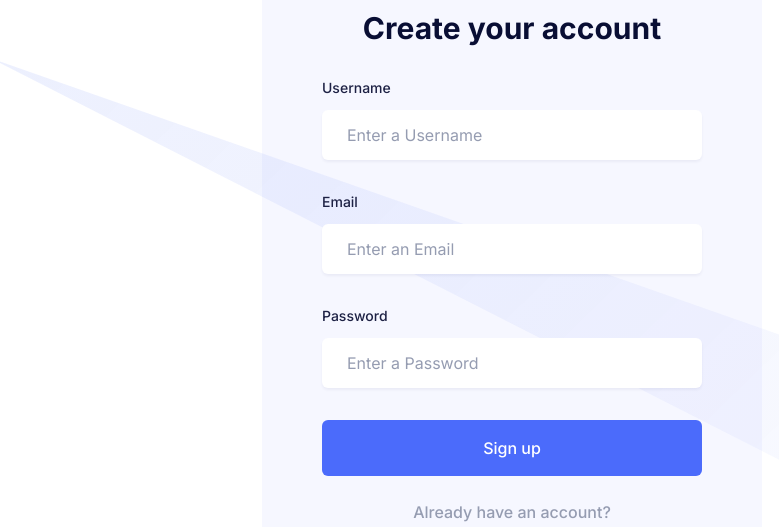
Test case: Sign in functionality › Should show error message if one occurs in the fetch request
In the field labelled "Username": x=512, y=135 x1=322 y1=110 x2=702 y2=160, type "testuser"
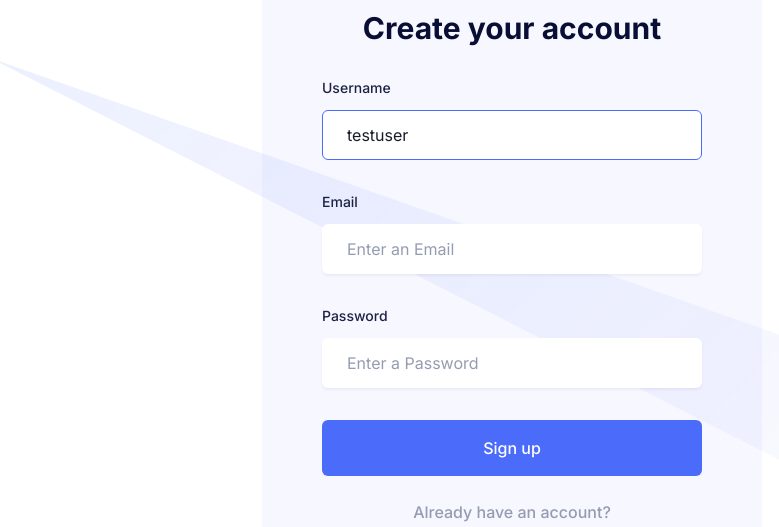
In the field labelled "Email": x=512, y=249 x1=322 y1=224 x2=702 y2=274, type "test@gmail.com"
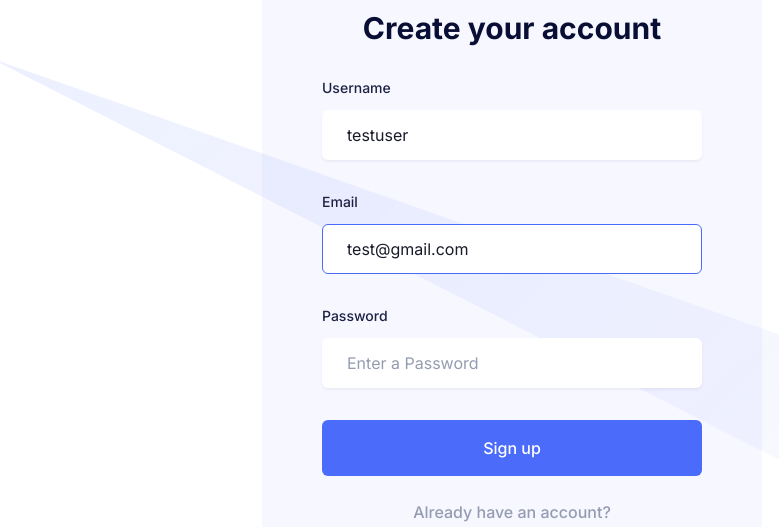
In the password field labelled "Password": x=512, y=363 x1=322 y1=338 x2=702 y2=388, type "password"
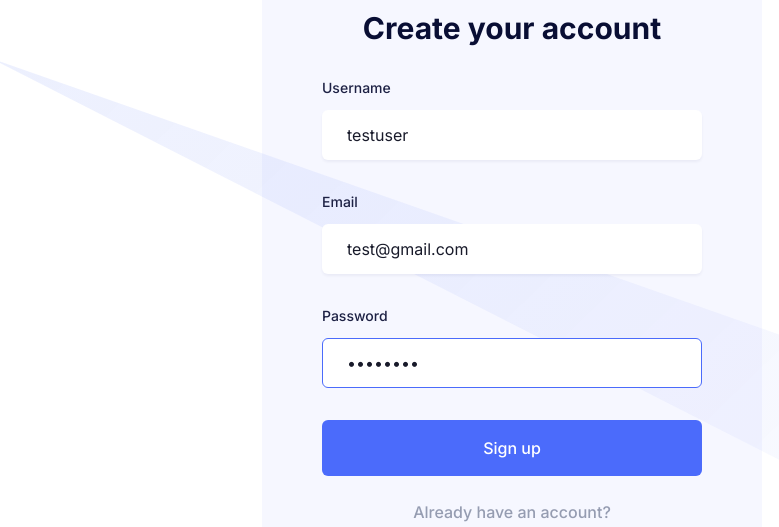
Click the button: x=512, y=448 x1=322 y1=420 x2=702 y2=476
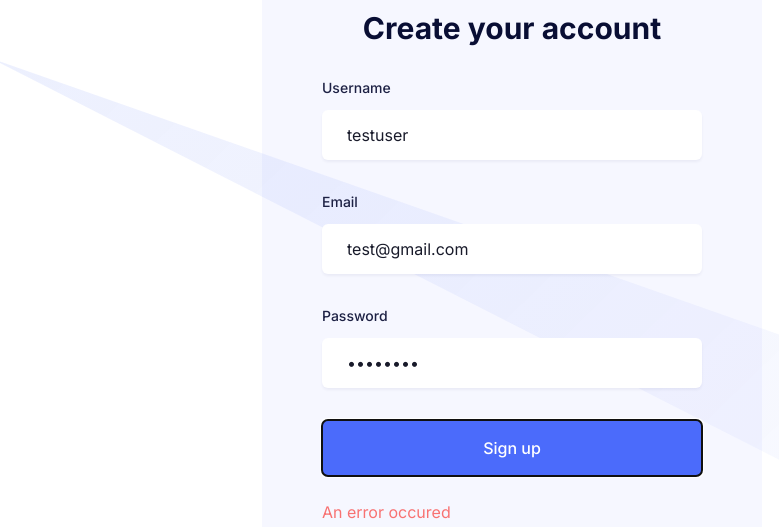
Expected: the text "An error occured" is shown, x1=322 y1=502 x2=451 y2=522
